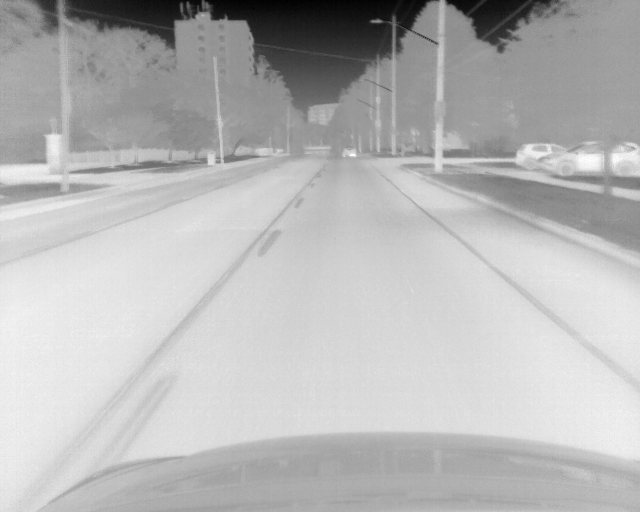car: (539, 140, 640, 181), (515, 142, 567, 173), (342, 144, 356, 159)
